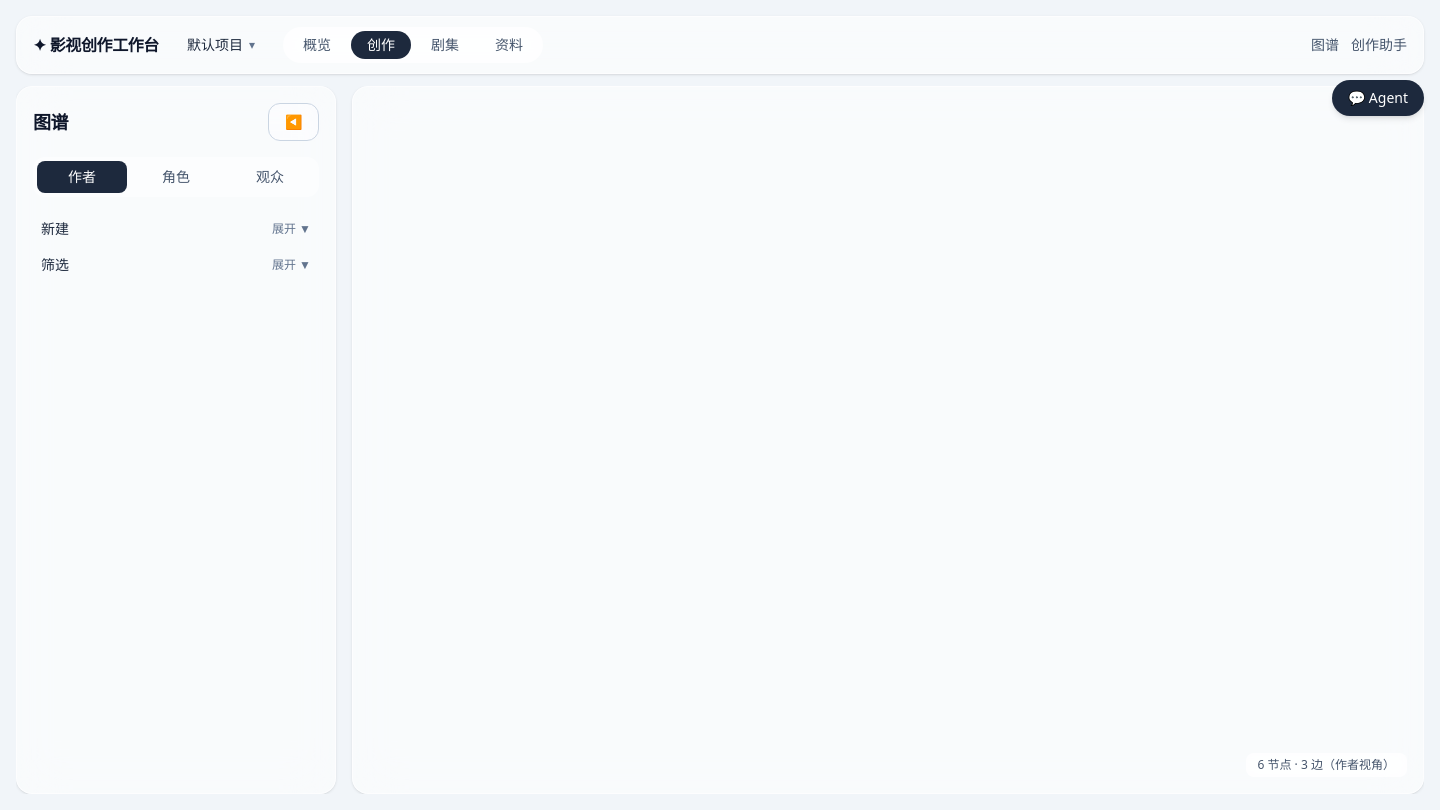
Scenario: Workbench 集成（I1–I8） › I12: 操作栏收起/展开（图区占满，状态可恢复）
Expected: the text with test id "graph-stats" shows "6 节点 · 3 边", 1246,753 -> 1407,777
# 设计依据: 增强轮—工作台收起展开
Click the button named "收起操作栏": {"x": 294, "y": 122} 268,103 -> 319,141
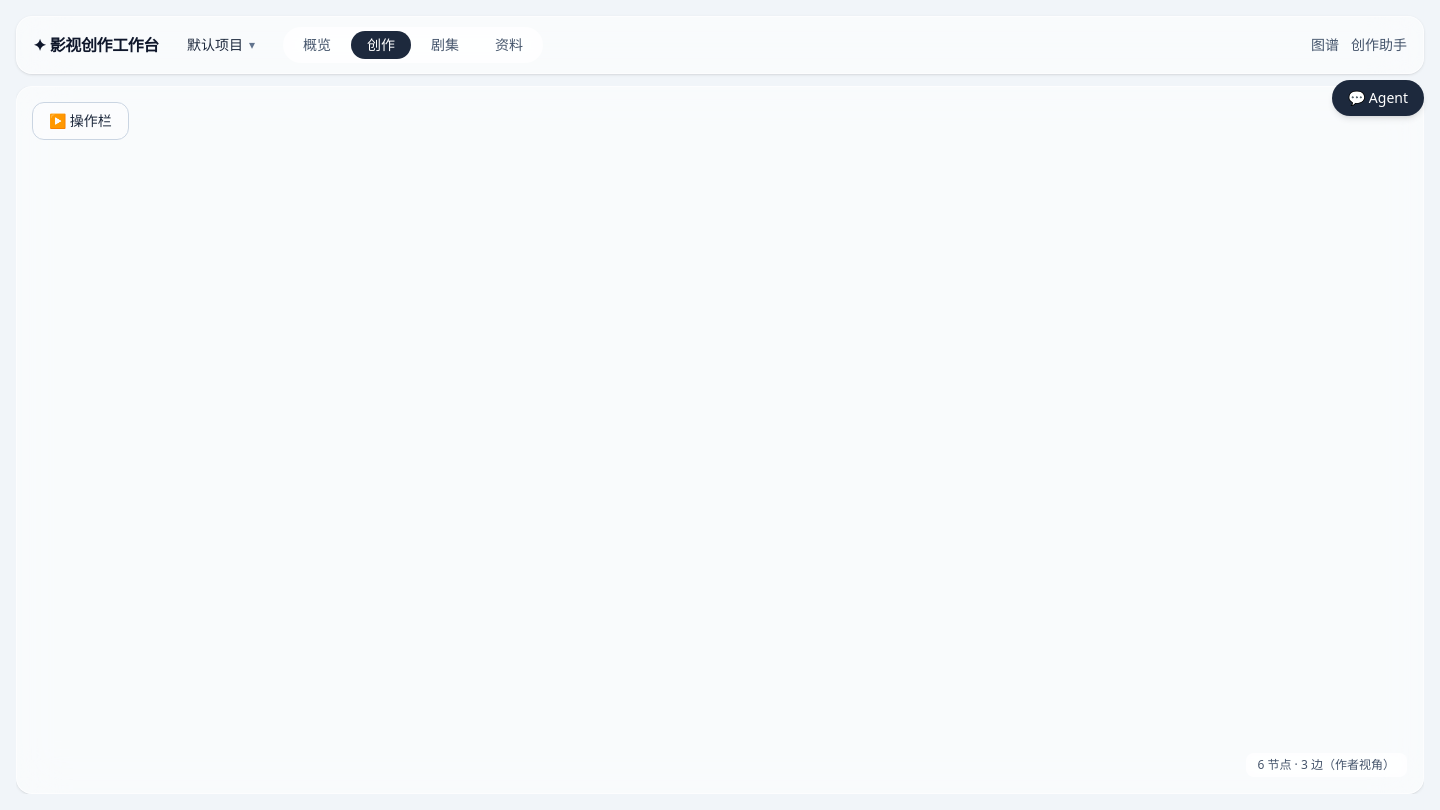
Expected: the element with test id "sidebar" is gone
Click the button with aria-label "展开操作栏": {"x": 80, "y": 121} 32,102 -> 129,140
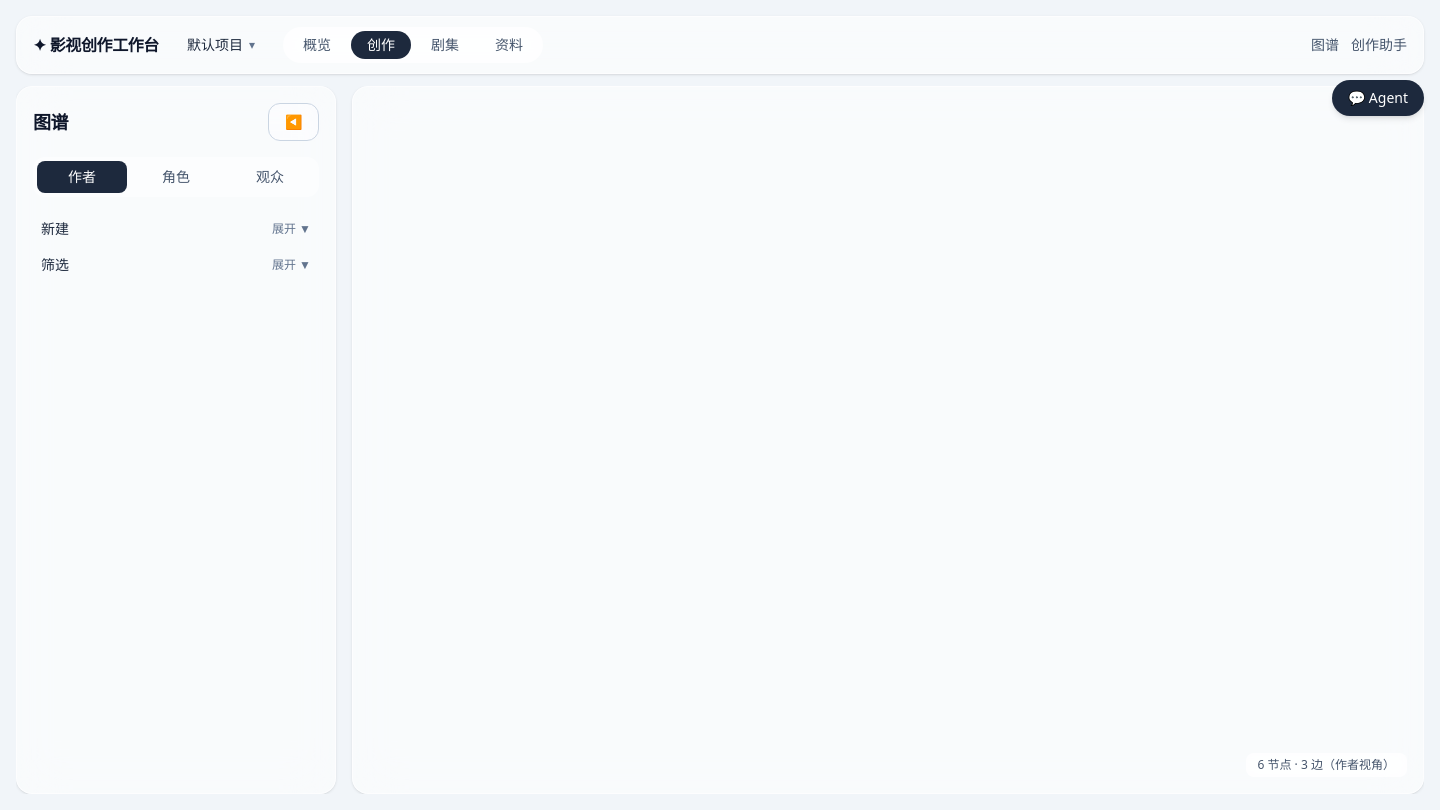
Expected: the element with test id "sidebar" is shown, 16,86 -> 336,794
